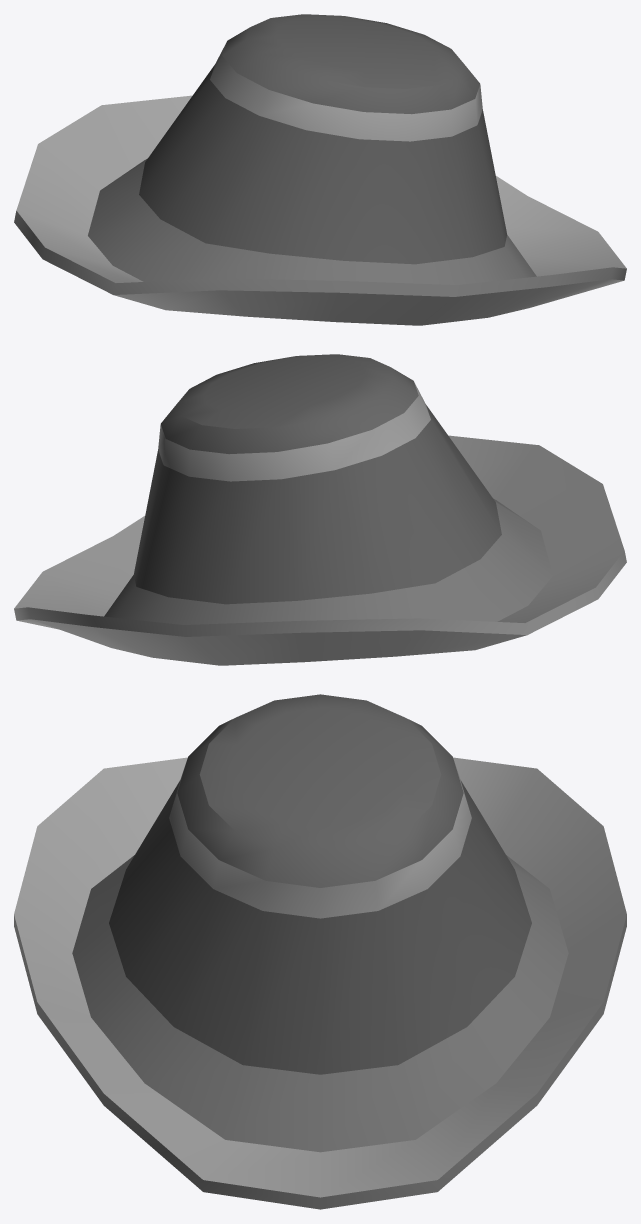
The model's file is Hat.fbx.
3 renders of one model, top to bottom at view 1: azimuth 30°, elevation 25°; view 2: azimuth 150°, elevation 25°; view 3: azimuth 270°, elevation 25°, orthographic. The views are drawn at different scales.
Visible parts, largest first — view 1: Hat; view 2: Hat; view 3: Hat.
Part boxes in pixels (x1,y1,x2,y2): Hat: (14, 14, 626, 325); Hat: (14, 354, 626, 665); Hat: (14, 694, 626, 1209).
Bounding box in the file's own units: 1.48 × 1.2 × 0.7077.
